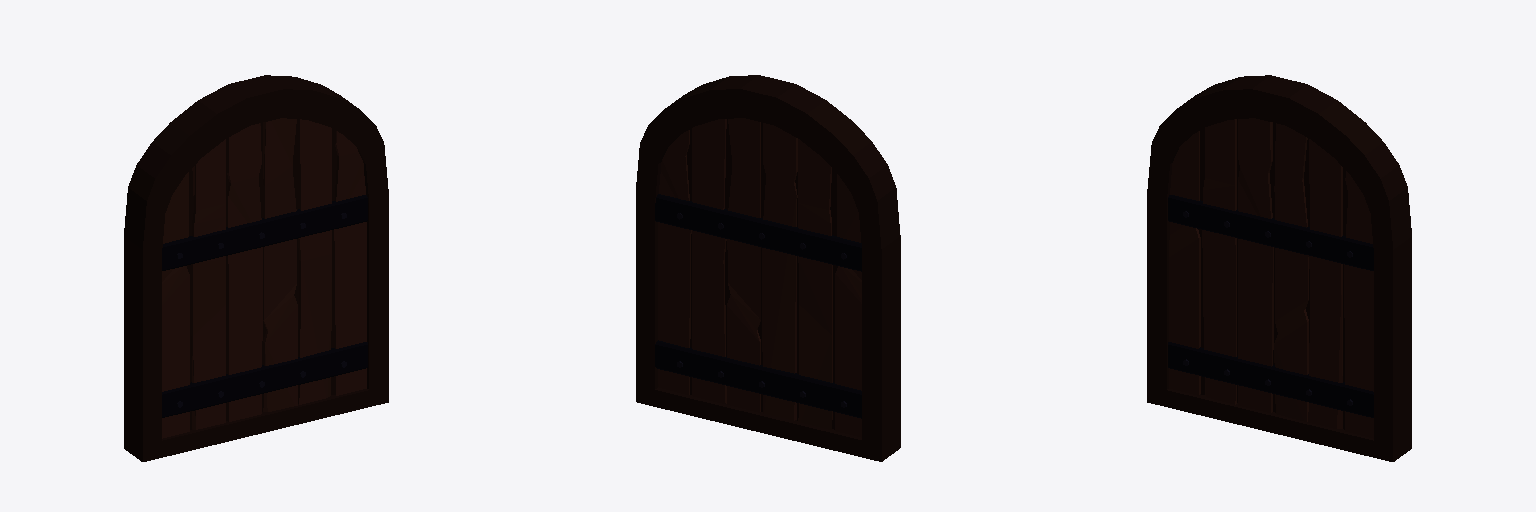
The model's file is Arch_Door_bottompivot.obj.
3 views of the same model, side by side, from view 1: azimuth 30°, elevation 25°; view 2: azimuth 150°, elevation 25°; view 3: azimuth 330°, elevation 25° (orthographic).
Visible parts, largest first — view 1: Arch_Door_bottompivot_Cube.044; view 2: Arch_Door_bottompivot_Cube.044; view 3: Arch_Door_bottompivot_Cube.044.
Boxes of the visible parts, <box> form: Arch_Door_bottompivot_Cube.044: <box>124,75,388,461</box>; Arch_Door_bottompivot_Cube.044: <box>636,75,900,461</box>; Arch_Door_bottompivot_Cube.044: <box>1147,75,1411,461</box>.
Size of the model in its own units: 2.42 by 3.19 by 0.3296.